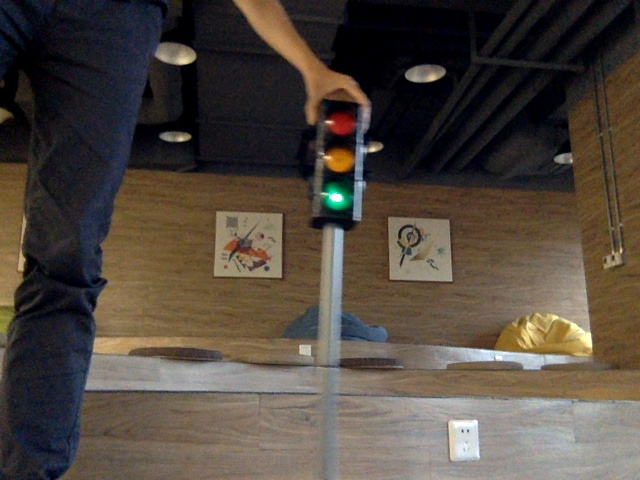green: (318, 109, 358, 214)
